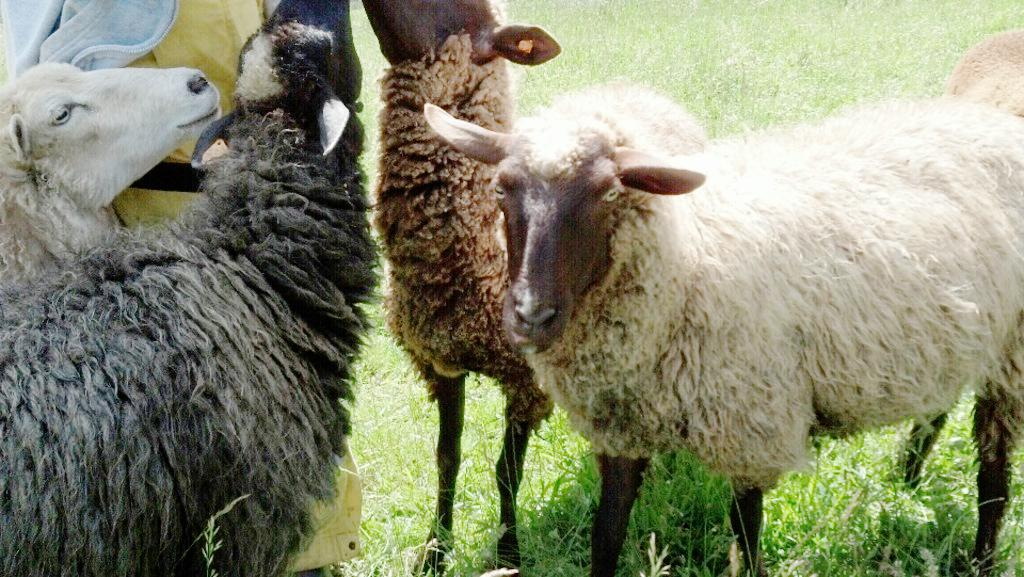Sheep: (420, 94, 1023, 576), (0, 0, 369, 576), (350, 0, 708, 576), (0, 57, 236, 278)
